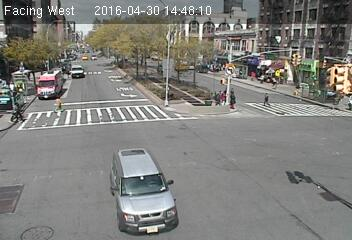neg: (223, 133, 259, 181), (277, 158, 308, 199), (309, 58, 339, 98), (132, 178, 161, 217), (13, 159, 41, 196), (72, 73, 97, 107), (49, 141, 74, 174), (202, 32, 225, 63), (193, 190, 215, 220), (164, 134, 185, 163), (137, 58, 157, 85), (262, 52, 282, 79), (14, 29, 32, 54), (126, 110, 144, 134), (100, 24, 116, 46)
pos: (50, 93, 65, 113), (9, 102, 24, 122), (227, 90, 241, 110), (260, 92, 272, 107)
